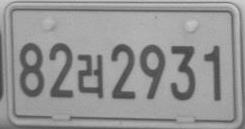1: (201, 44, 228, 101)
2: (110, 43, 136, 99), (48, 41, 73, 98)
3: (169, 44, 196, 100)
8: (18, 41, 45, 98)
9: (139, 43, 166, 99)
러: (76, 53, 104, 98)
